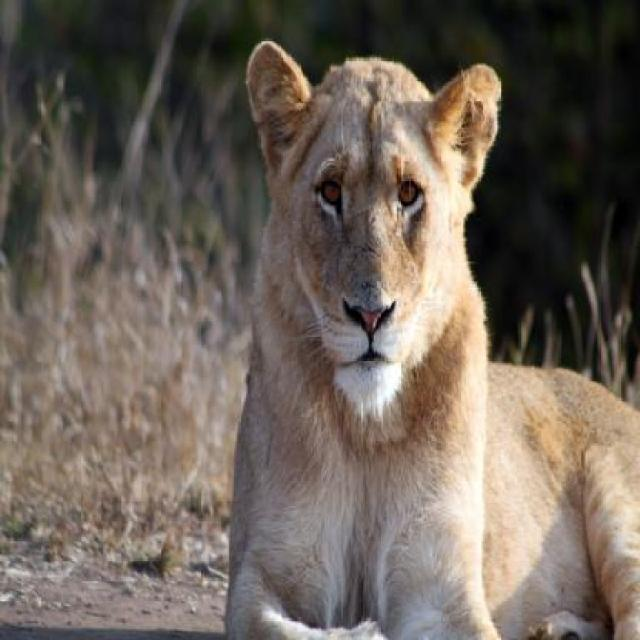Lion: (192, 0, 638, 632)
